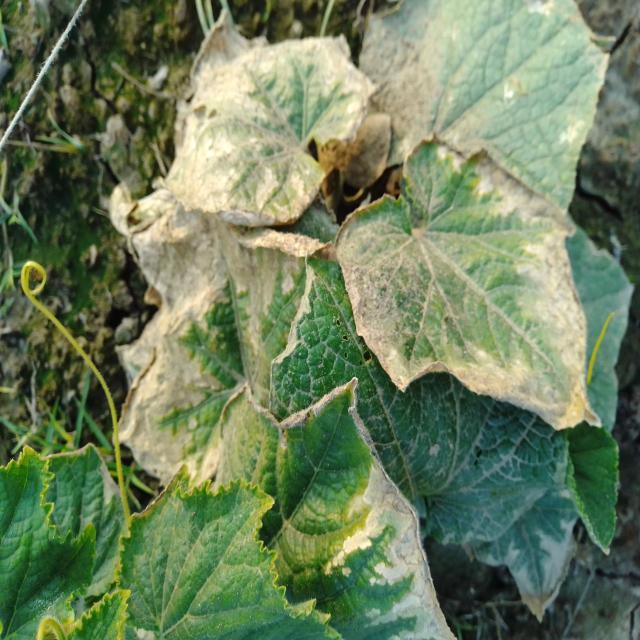cucumber_bacterial: (259, 262, 634, 614), (338, 184, 612, 432), (243, 397, 467, 640), (133, 19, 377, 234), (340, 0, 616, 190), (103, 238, 305, 488)
